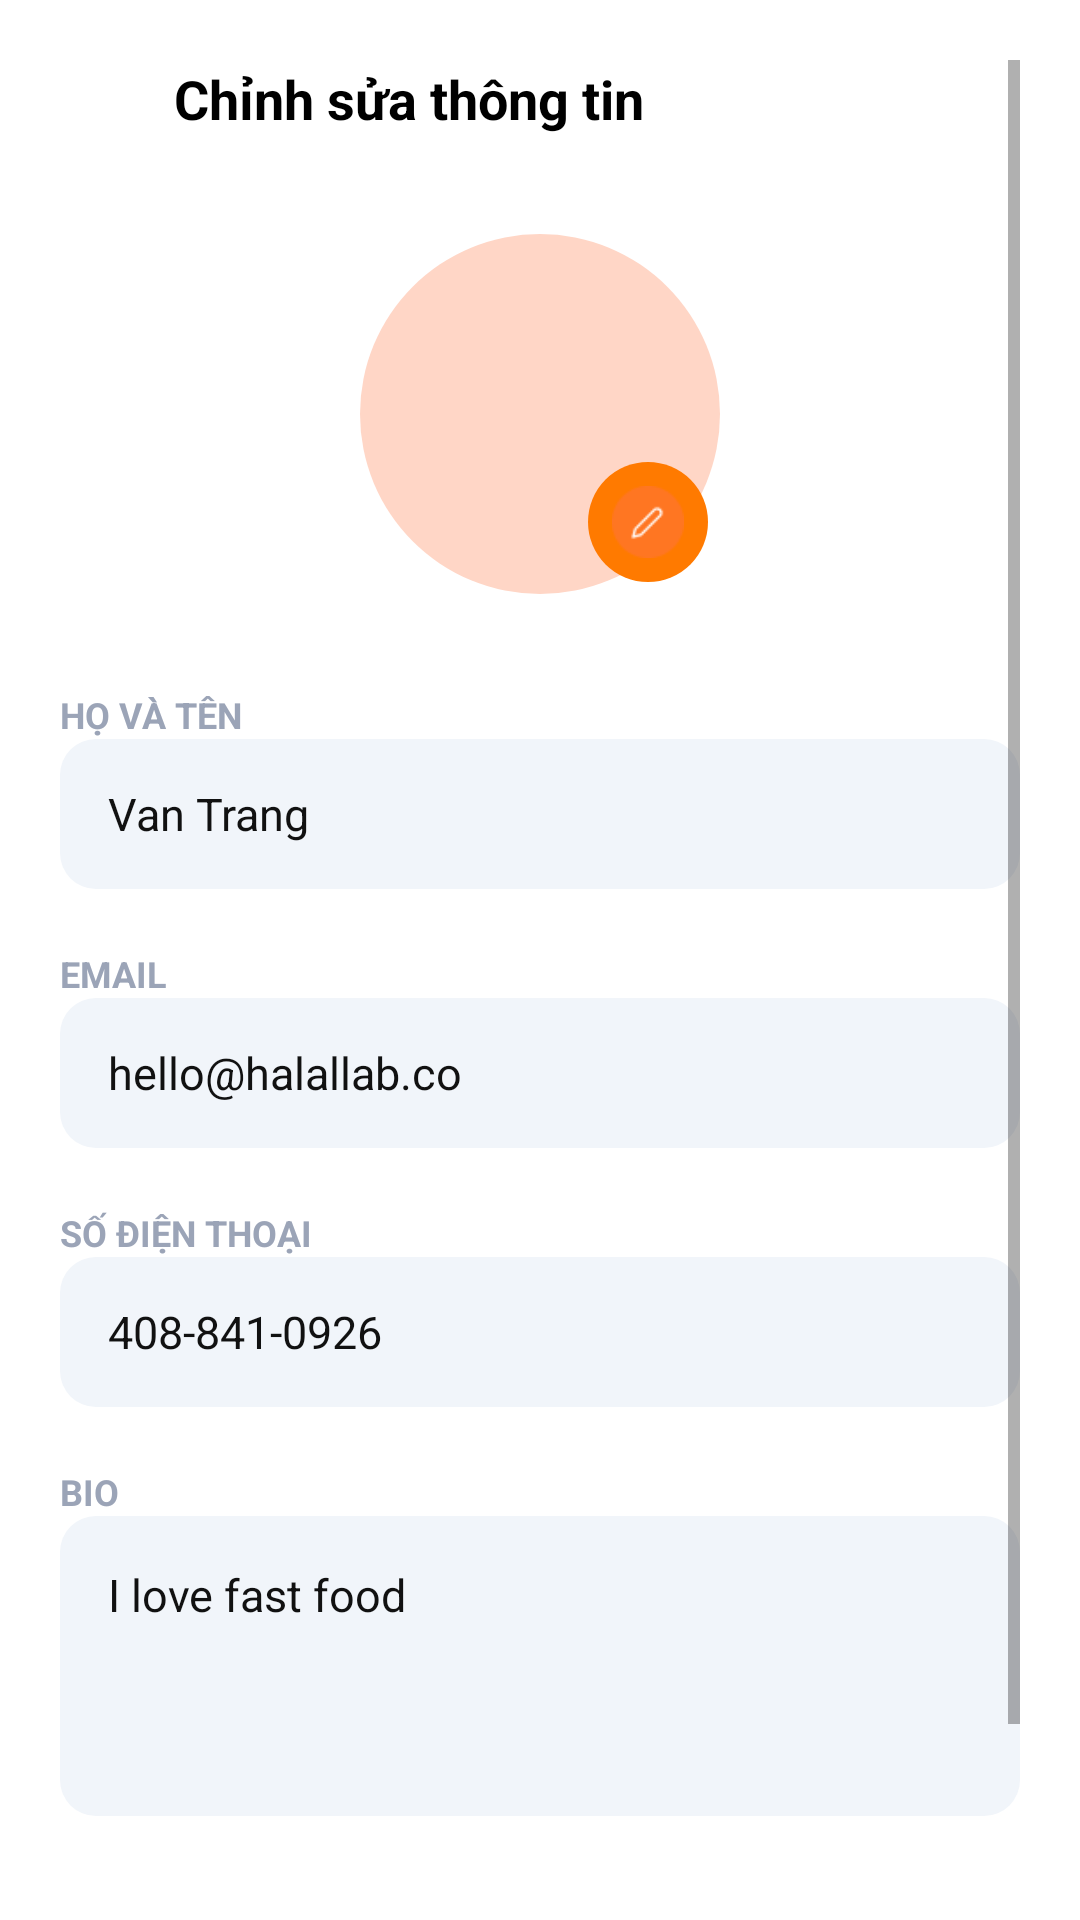

Screen size 1080 × 1920. Icon name, then its center in pixels as point (x, y):
edit: point (648, 522)
